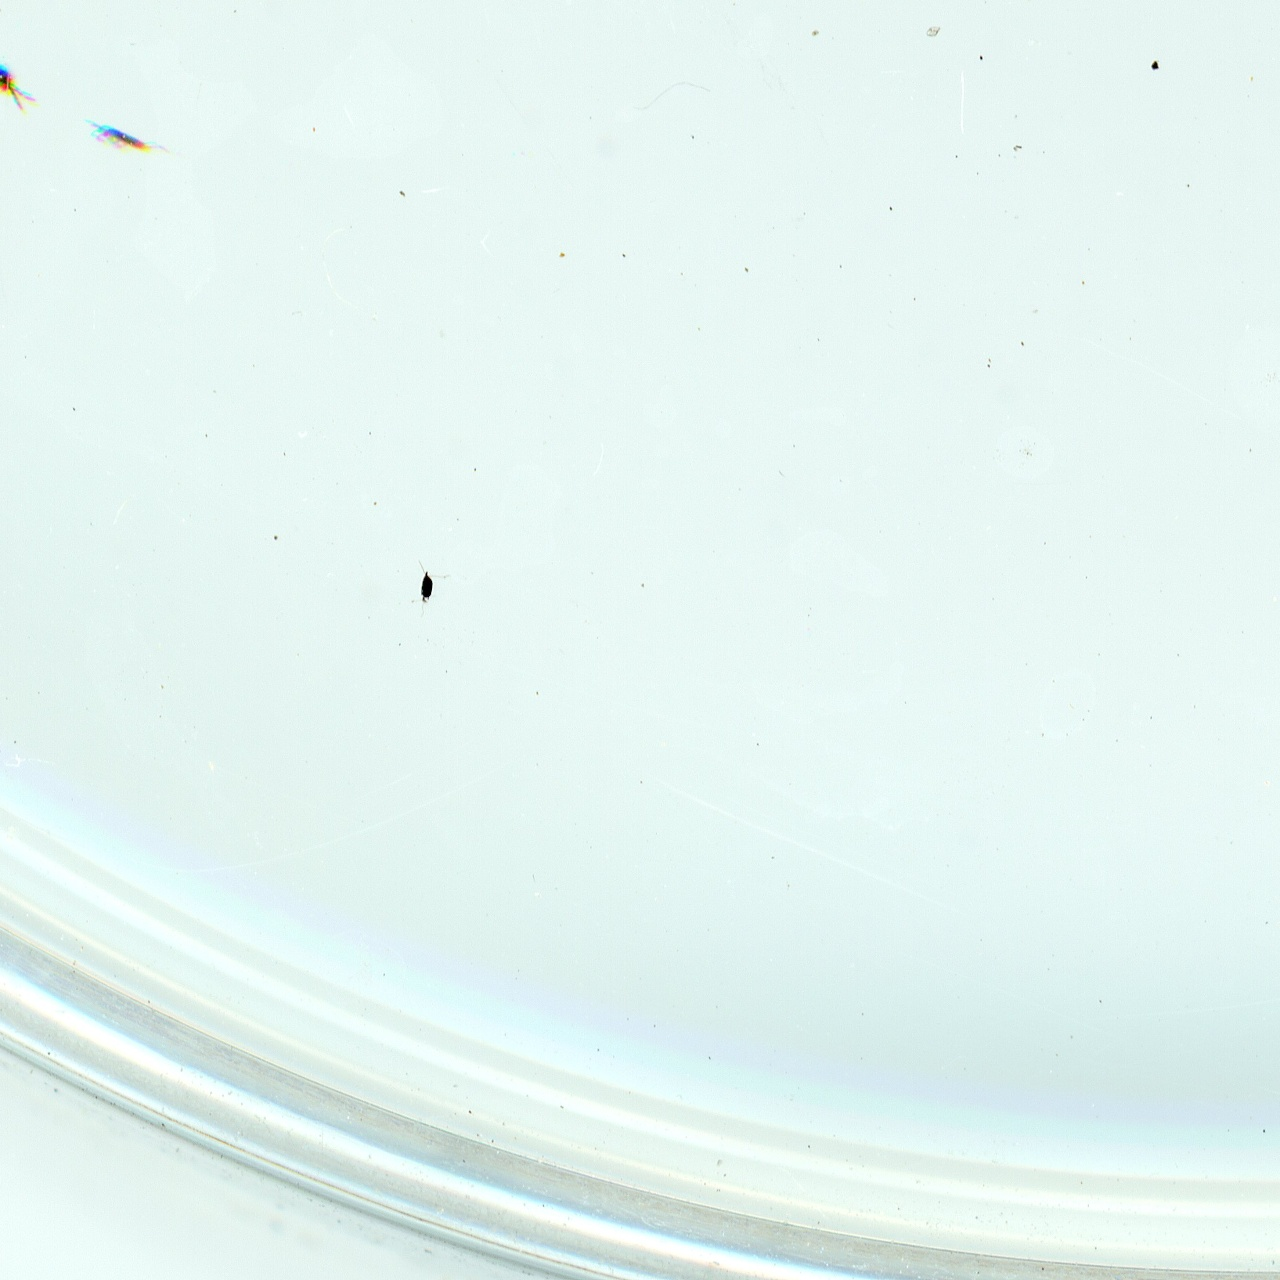arthropod: (81, 115, 175, 156), (0, 29, 38, 113)
